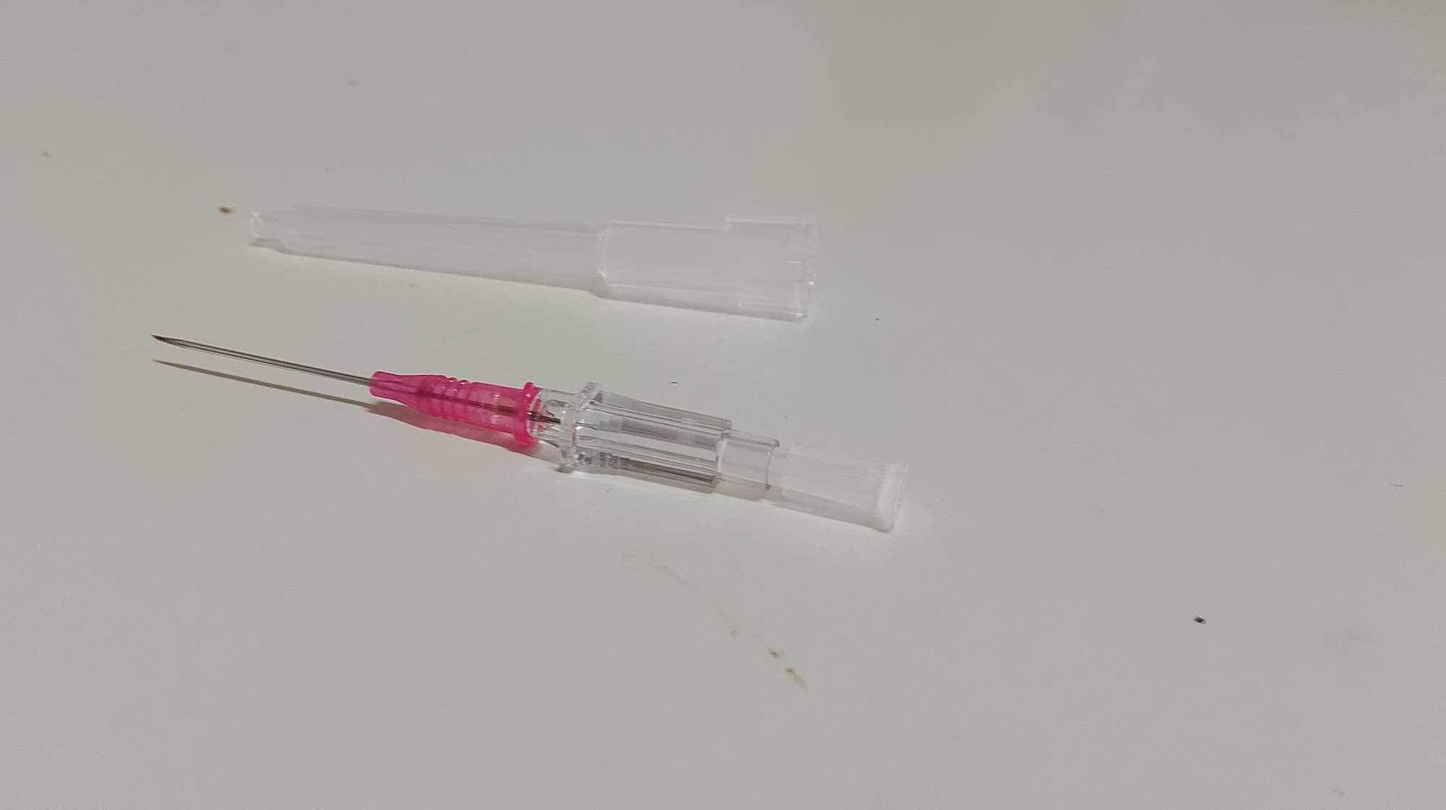Sharps: (150, 331, 908, 534), (245, 200, 820, 323)
